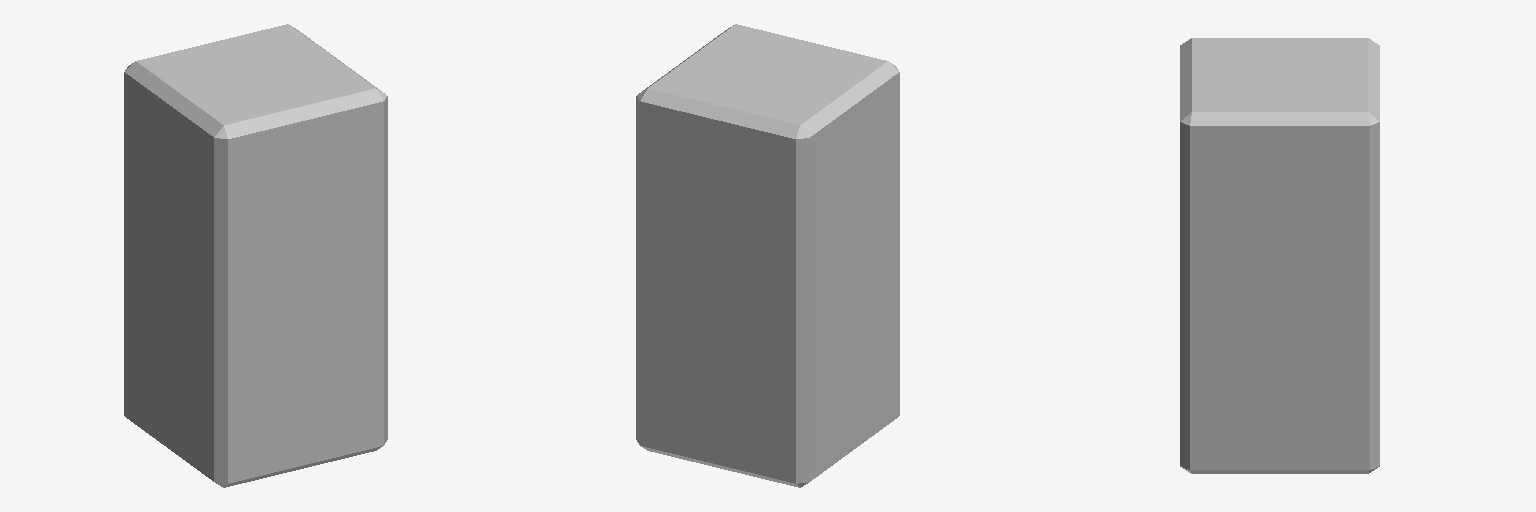
Rendered from right_arm.obj.
3 views of the same model, side by side, from view 1: azimuth 30°, elevation 25°; view 2: azimuth 150°, elevation 25°; view 3: azimuth 270°, elevation 25° (orthographic).
Parts seen in each view (by area): view 1: Right_Arm_Right_Right_Arm_Right_Arm_Cube_Left_Arm_Cube.003; view 2: Right_Arm_Right_Right_Arm_Right_Arm_Cube_Left_Arm_Cube.003; view 3: Right_Arm_Right_Right_Arm_Right_Arm_Cube_Left_Arm_Cube.003.
Part boxes in pixels (bbox=[...]): Right_Arm_Right_Right_Arm_Right_Arm_Cube_Left_Arm_Cube.003: bbox=[124, 24, 387, 487]; Right_Arm_Right_Right_Arm_Right_Arm_Cube_Left_Arm_Cube.003: bbox=[636, 24, 899, 487]; Right_Arm_Right_Right_Arm_Right_Arm_Cube_Left_Arm_Cube.003: bbox=[1180, 38, 1379, 473].
Bounding box in the file's own units: 1 × 2 × 1.